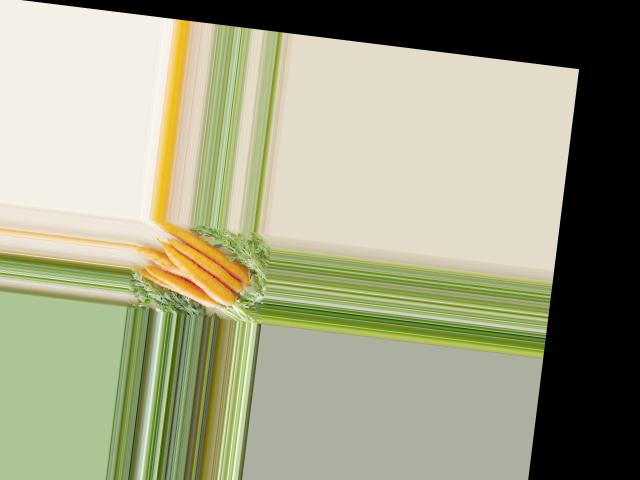carrot: (145, 218, 263, 286)
